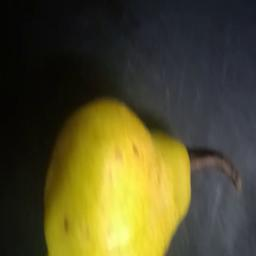Pear Semifresh: (33, 85, 213, 256)
